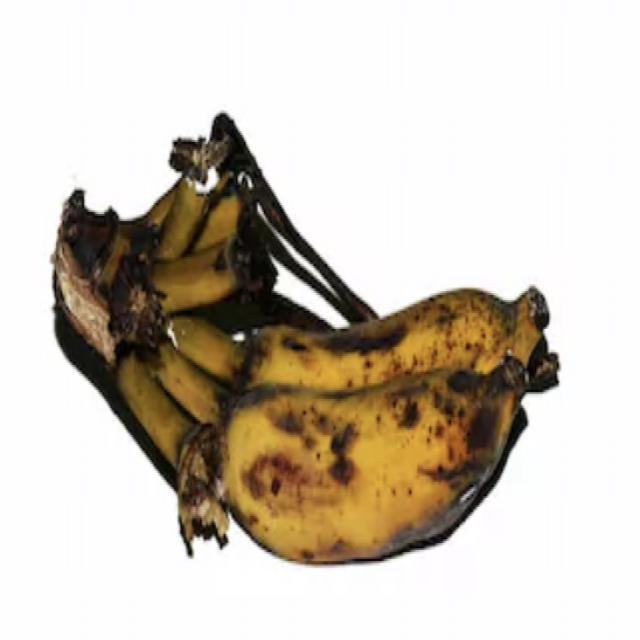rotten-banana: (202, 388, 522, 561), (234, 260, 529, 401)
